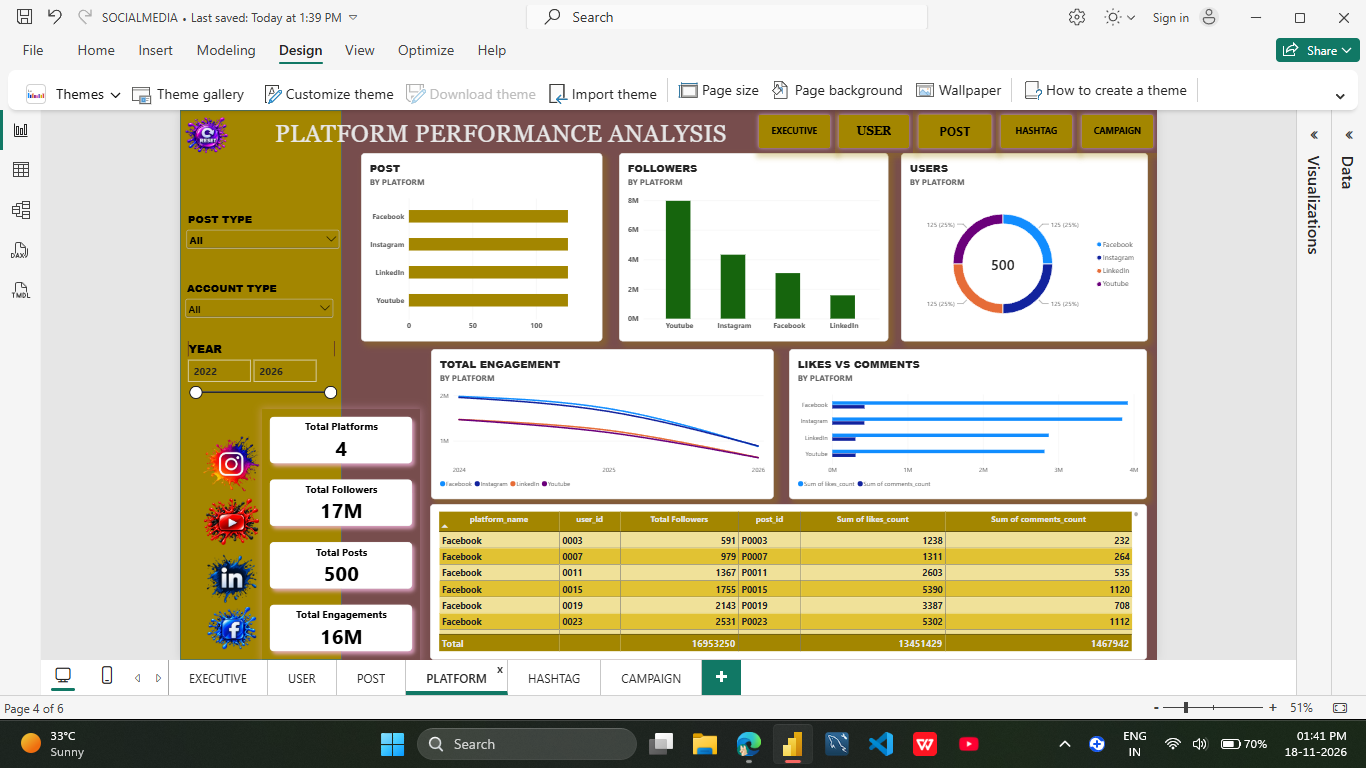

The dashboard page shown, as its layout file describes it:
{"tool":"powerbi","page":{"name":"PLATFORM","canvas":[1920,1080],"ordinal":3},"visuals":[{"type":"shape","box":[0,0,317.4,1080],"z":0,"group":"g1"},{"type":"cardVisual","fields":{"Data":["social_media platforms.Total Platforms","social_media follows.Total Followers","social_media posts.Total Posts","social_media adperformance.Total Engagements"]},"box":[160.9,586.3,310.8,493.7],"z":1000,"group":"g1"},{"type":"clusteredColumnChart","title":"FOLLOWERS","fields":{"Category":["social_media platforms.platform_name"],"Y":["social_media follows.Total Followers"]},"box":[861.8,83.8,529,370.3],"z":2000},{"type":"clusteredBarChart","title":"POST","fields":{"Category":["social_media platforms.platform_name"],"Y":["CountNonNull(social_media posts.post_id)"]},"box":[354.9,83.8,473.9,370.3],"z":3000},{"type":"donutChart","title":"USERS","fields":{"Category":["social_media platforms.platform_name"],"Y":["CountNonNull(social_media users.user_id)"]},"box":[1415,83.8,484.9,370.3],"z":4000},{"type":"clusteredBarChart","title":"LIKES VS COMMENTS","fields":{"Category":["social_media platforms.platform_name"],"Y":["Sum(social_media posts.likes_count)","Sum(social_media posts.comments_count)"]},"box":[1196.8,469.5,703.1,295.3],"z":5000},{"type":"lineChart","title":"TOTAL ENGAGEMENT","fields":{"Category":["social_media posts.posted_at.Variation.Date Hierarchy.Year","social_media posts.posted_at.Variation.Date Hierarchy.Month"],"Series":["social_media platforms.platform_name"],"Y":["social_media adperformance.Total Engagements"]},"box":[492.5,470,672.5,295],"z":6000},{"type":"tableEx","fields":{"Values":["social_media platforms.platform_name","social_media users.user_id","social_media follows.Total Followers","social_media posts.post_id","Sum(social_media posts.likes_count)","Sum(social_media posts.comments_count)"]},"box":[491.5,773.6,1408.4,306.4],"z":7000},{"type":"image","box":[41.9,639.2,119,110.2],"z":8000,"group":"g1"},{"type":"image","box":[46.3,749.4,108,116.8],"z":9000,"group":"g1"},{"type":"image","box":[28.7,866.2,143.3,110.2],"z":10000,"group":"g1"},{"type":"image","box":[52.9,976.4,97,83.8],"z":11000,"group":"g1"},{"type":"image","box":[0,0,105.8,99.2],"z":11001,"group":"g1"},{"type":"actionButton","box":[1126.3,0,158.7,83.8],"z":11002},{"type":"actionButton","box":[1285,0,156.5,83.8],"z":11003},{"type":"actionButton","box":[1441.5,0,160.9,83.8],"z":11004},{"type":"actionButton","box":[1602.4,0,158.7,83.8],"z":11005},{"type":"actionButton","box":[1761.1,0,158.7,83.8],"z":11006},{"type":"slicer","fields":{"Values":["social_media users.Registration Year"]},"box":[7.7,453.7,304.2,163.1],"z":11007,"group":"g1"},{"type":"slicer","fields":{"Values":["social_media useraccount.account_type"]},"box":[5.1,335.8,299.9,94.8],"z":11008,"group":"g1"},{"type":"slicer","fields":{"Values":["social_media posts.post_type"]},"box":[7.7,199.9,310.2,94.8],"z":11009,"group":"g1"},{"type":"textbox","box":[187.3,0,912.5,83.8],"z":11010,"group":"g1"},{"type":"group","id":"g1","title":"Group 1","box":[0,0,1099.8,1080],"z":11011}]}

Visuals, with their boxes on the page's 1920x1080 design canvas (x1, y1, x2, y2). These are canvas units, not pixel positions in the 1366x768 screenshot, which may show the page scaled, cropped or inside an application window:
shape: box(0, 0, 317, 1080)
cardVisual - social_media platforms.Total Platforms x social_media follows.Total Followers: box(161, 586, 472, 1080)
"FOLLOWERS" clusteredColumnChart: box(862, 84, 1391, 454)
"POST" clusteredBarChart: box(355, 84, 829, 454)
"USERS" donutChart: box(1415, 84, 1900, 454)
"LIKES VS COMMENTS" clusteredBarChart: box(1197, 470, 1900, 765)
"TOTAL ENGAGEMENT" lineChart: box(492, 470, 1165, 765)
tableEx - social_media platforms.platform_name x social_media users.user_id: box(492, 774, 1900, 1080)
image: box(42, 639, 161, 749)
image: box(46, 749, 154, 866)
image: box(29, 866, 172, 976)
image: box(53, 976, 150, 1060)
image: box(0, 0, 106, 99)
actionButton: box(1126, 0, 1285, 84)
actionButton: box(1285, 0, 1442, 84)
actionButton: box(1442, 0, 1602, 84)
actionButton: box(1602, 0, 1761, 84)
actionButton: box(1761, 0, 1920, 84)
slicer - social_media users.Registration Year: box(8, 454, 312, 617)
slicer - social_media useraccount.account_type: box(5, 336, 305, 431)
slicer - social_media posts.post_type: box(8, 200, 318, 295)
textbox: box(187, 0, 1100, 84)
"Group 1" group: box(0, 0, 1100, 1080)
